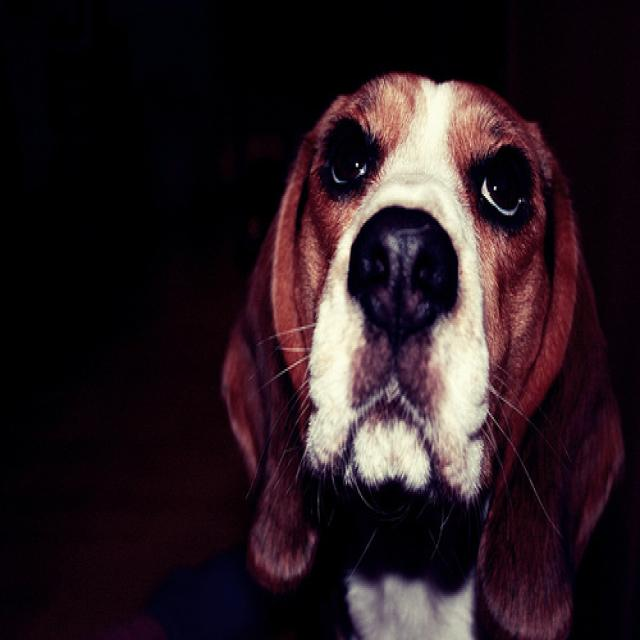dog-beagle: (143, 58, 635, 636)
